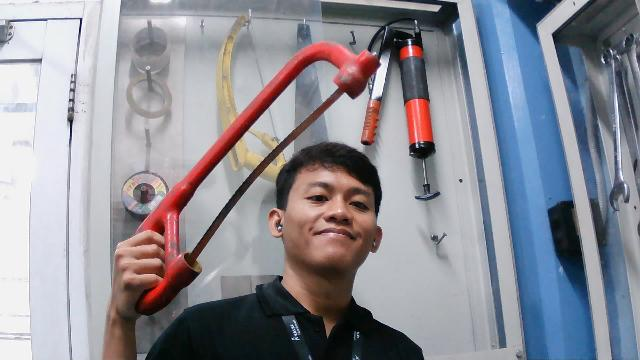gergaji_besi: (113, 39, 383, 316)
